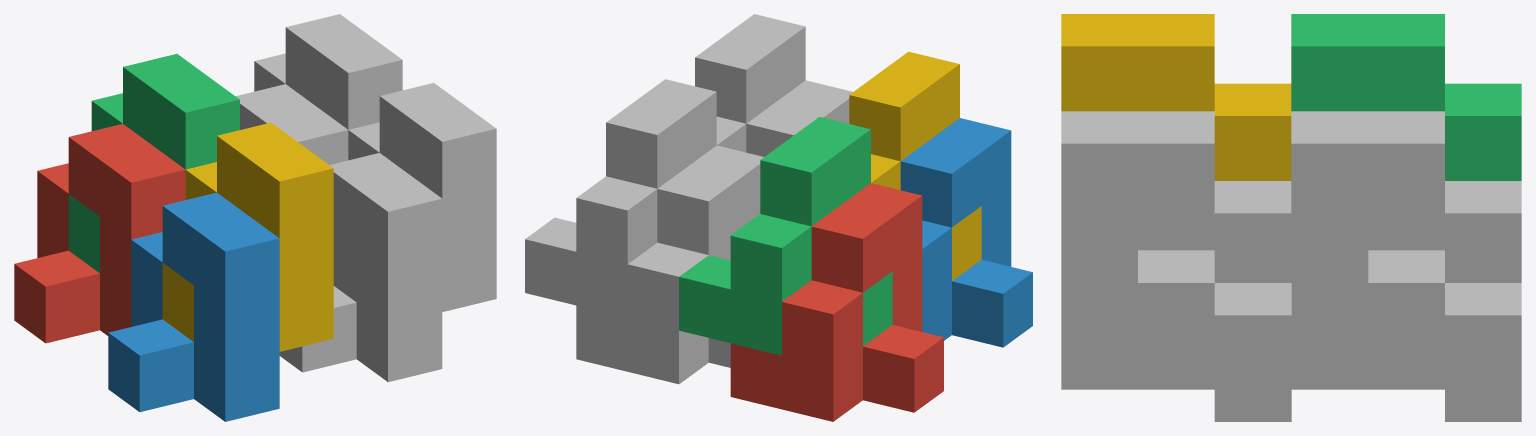
Rendered from tiling.obj.
3 renders of one model, left to right at view 1: azimuth 30°, elevation 25°; view 2: azimuth 150°, elevation 25°; view 3: azimuth 270°, elevation 25°, orthographic. The views are drawn at different scales.
Parts seen in each view (by area): view 1: copy_1_domain_2, copy_1_domain_6, copy_1_domain_1, copy_1_domain_4, copy_1_domain_8, copy_1_domain_3, copy_1_domain_7, copy_1_domain_5; view 2: copy_1_domain_1, copy_1_domain_3, copy_1_domain_7, copy_1_domain_5, copy_1_domain_2, copy_1_domain_4, copy_1_domain_8, copy_1_domain_6; view 3: copy_1_domain_8, copy_1_domain_7, copy_1_domain_4, copy_1_domain_3, copy_1_domain_6, copy_1_domain_5.
Part boxes in pixels (x1,y1,x2,y2): copy_1_domain_2: (108, 192, 279, 421); copy_1_domain_6: (279, 153, 442, 382); copy_1_domain_1: (14, 124, 185, 343); copy_1_domain_4: (162, 122, 333, 351); copy_1_domain_8: (333, 83, 496, 311); copy_1_domain_3: (68, 54, 239, 272); copy_1_domain_7: (254, 14, 402, 129); copy_1_domain_5: (236, 84, 348, 164); copy_1_domain_1: (730, 183, 943, 421); copy_1_domain_3: (679, 116, 892, 355); copy_1_domain_7: (525, 79, 730, 317); copy_1_domain_5: (576, 145, 763, 384); copy_1_domain_2: (900, 118, 1032, 347); copy_1_domain_4: (849, 51, 981, 280); copy_1_domain_8: (695, 14, 805, 152); copy_1_domain_6: (746, 80, 852, 156); copy_1_domain_8: (1061, 111, 1291, 384); copy_1_domain_7: (1291, 111, 1521, 384); copy_1_domain_4: (1061, 14, 1291, 180); copy_1_domain_3: (1291, 14, 1521, 180); copy_1_domain_6: (1061, 213, 1291, 421); copy_1_domain_5: (1291, 213, 1521, 421).
Bounding box in the file's own units: 7 × 4 × 6.
